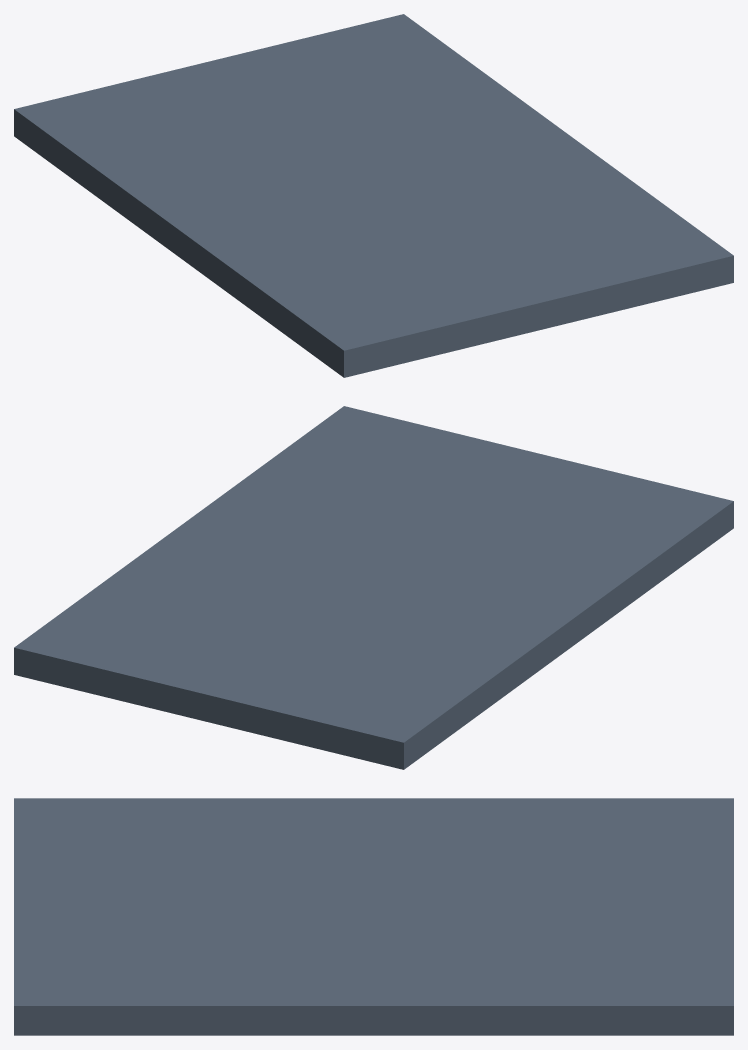
The model's file is tablet.glb.
3 renders of one model, top to bottom at view 1: azimuth 30°, elevation 25°; view 2: azimuth 150°, elevation 25°; view 3: azimuth 270°, elevation 25°, orthographic. The views are drawn at different scales.
Visible parts, largest first — view 1: body_0; view 2: body_0; view 3: body_0.
Part boxes in pixels (x1,y1,x2,y2): body_0: (14,14,733,377); body_0: (14,406,733,769); body_0: (14,798,733,1035).
Size of the model in its own units: 0.3 by 0.0235 by 0.44.
